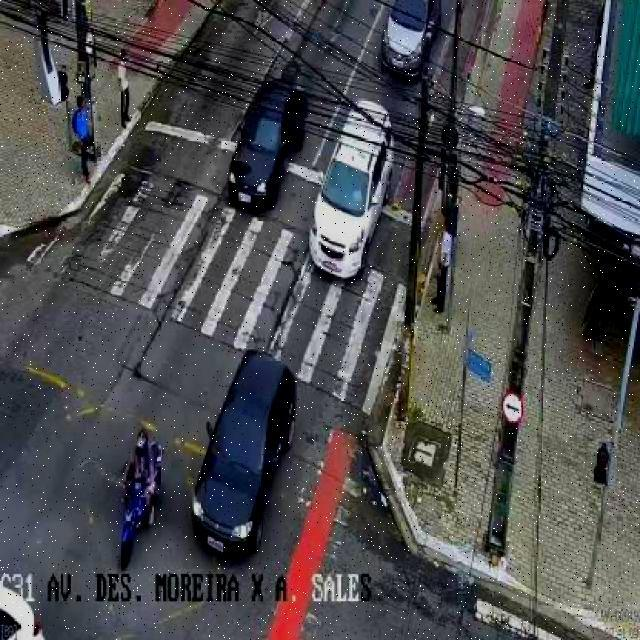Car: (191, 350, 298, 560), (307, 101, 395, 282), (225, 80, 310, 213), (374, 1, 434, 79)
Cycle: (118, 456, 166, 569)
